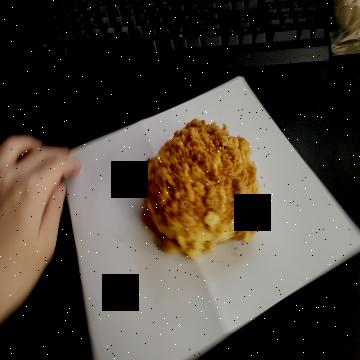soboru_bread: (140, 118, 260, 255)
